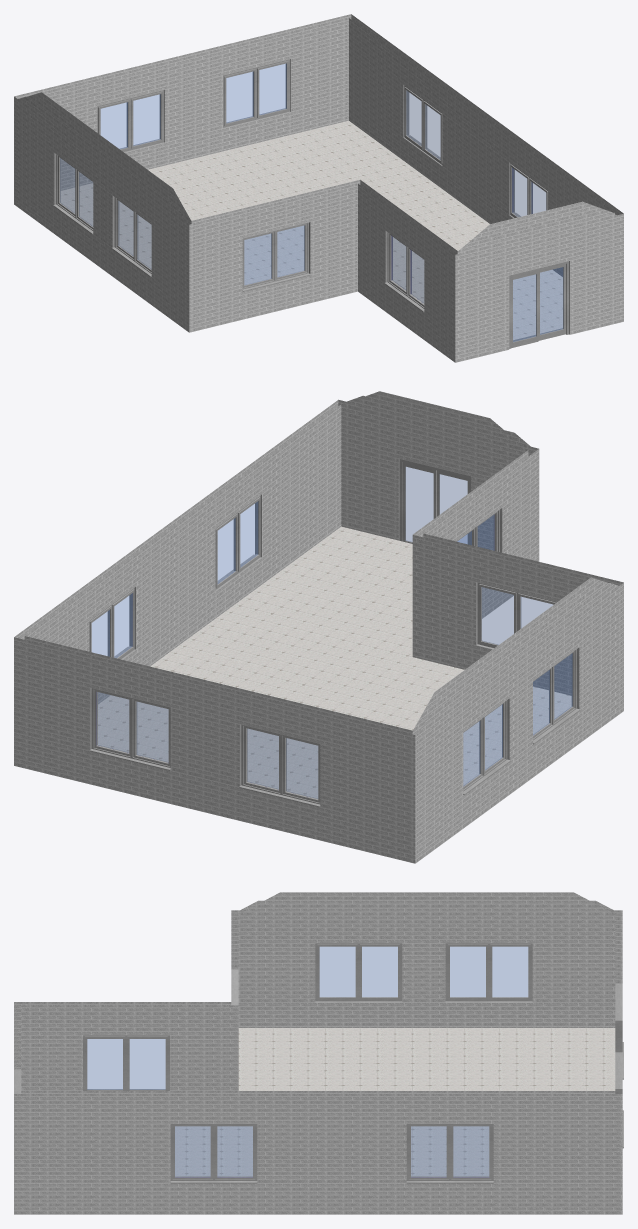
File: telhado44a.glb
3 renders of one model, top to bottom at view 1: azimuth 30°, elevation 25°; view 2: azimuth 150°, elevation 25°; view 3: azimuth 270°, elevation 25°, orthographic. The views are drawn at different scales.
Visible parts, largest first — view 1: object 2, root, object 4, object 3; view 2: object 2, root, object 4, object 3; view 3: object 2, root, object 4, object 3.
Part boxes in pixels (<box>): object 2: <box>14,14,623,362</box>; root: <box>60,120,562,339</box>; object 4: <box>60,64,562,341</box>; object 3: <box>53,59,569,348</box>; object 2: <box>14,391,623,863</box>; root: <box>98,526,571,798</box>; object 4: <box>92,467,572,798</box>; object 3: <box>89,459,580,807</box>; object 2: <box>14,892,622,1214</box>; root: <box>175,1028,615,1175</box>; object 4: <box>87,947,527,1176</box>; object 3: <box>14,943,623,1183</box>.
Bounding box in the file's own units: 10.06 × 3.6 × 14.03.
7 materials, 3 textured.
